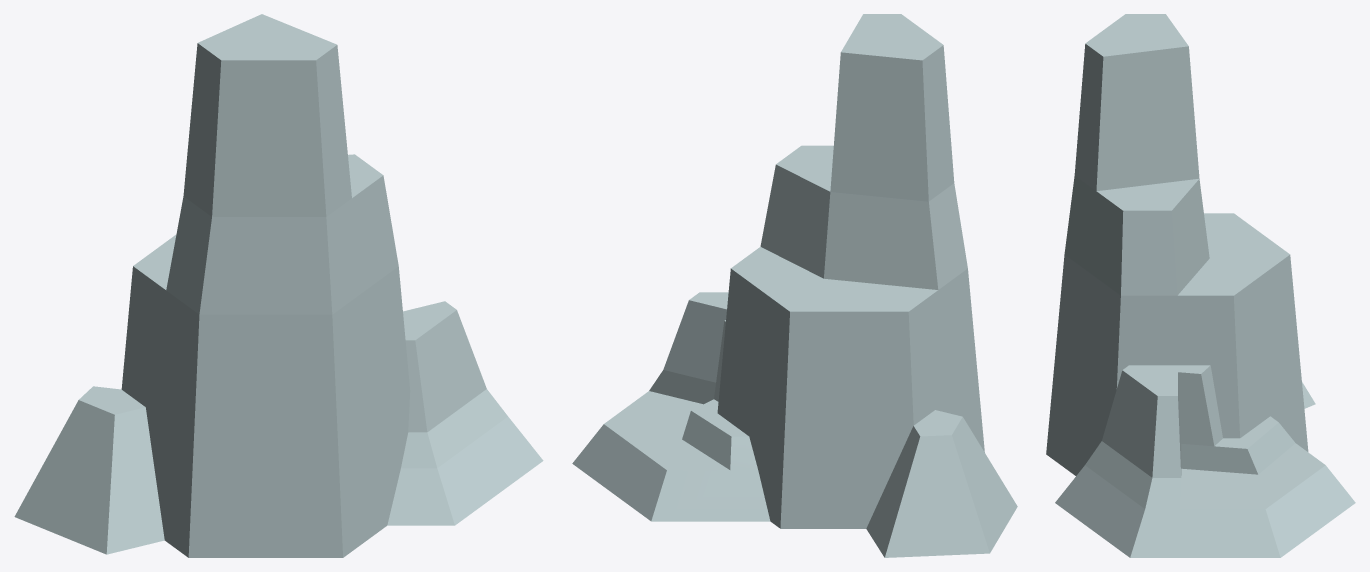
File: stone_tallA.glb
3 renders of one model, left to right at view 1: azimuth 30°, elevation 25°; view 2: azimuth 150°, elevation 25°; view 3: azimuth 270°, elevation 25°, orthographic. The views are drawn at different scales.
Parts seen in each view (by area): view 1: stone_tallA; view 2: stone_tallA; view 3: stone_tallA.
Boxes of the visible parts, x1=… form: stone_tallA: x1=14, y1=14, x2=543, y2=557; stone_tallA: x1=572, y1=14, x2=1017, y2=557; stone_tallA: x1=1046, y1=14, x2=1355, y2=557.
Size of the model in its own units: 0.9831 by 0.9959 by 0.6832.
